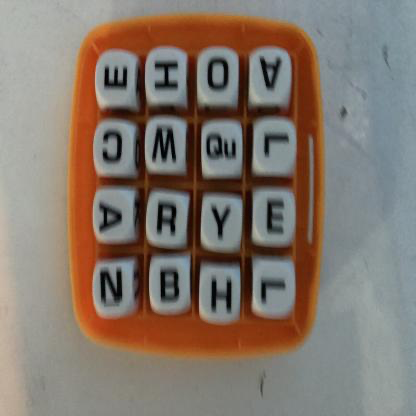a: (251, 49, 292, 105), (96, 191, 133, 242)
b: (153, 259, 193, 312)
c: (96, 124, 136, 175)
e: (253, 194, 295, 246), (98, 52, 137, 106)
h: (202, 265, 242, 323), (147, 51, 189, 106)
l: (253, 260, 297, 321), (255, 121, 296, 177)
n: (95, 264, 135, 314)
o: (199, 50, 240, 103)
qu: (204, 125, 244, 177)
r: (148, 195, 188, 247)
w: (147, 119, 186, 173)
y: (202, 199, 245, 253)
